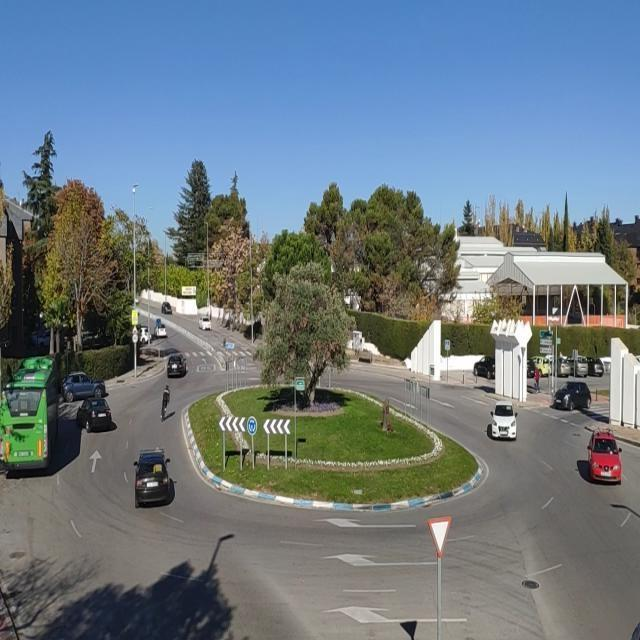Bus: (0, 353, 62, 472)
Car: (133, 449, 173, 509), (588, 428, 623, 482), (61, 372, 106, 402), (76, 397, 114, 432), (553, 381, 593, 411), (489, 402, 518, 440), (563, 355, 590, 377), (529, 355, 553, 377), (166, 353, 187, 378), (473, 356, 495, 379), (584, 357, 604, 377), (31, 329, 51, 349), (552, 357, 572, 377), (137, 325, 151, 344), (154, 321, 168, 338), (526, 358, 536, 378), (199, 316, 211, 330), (161, 302, 172, 314)
Cycle: (159, 396, 170, 421)
